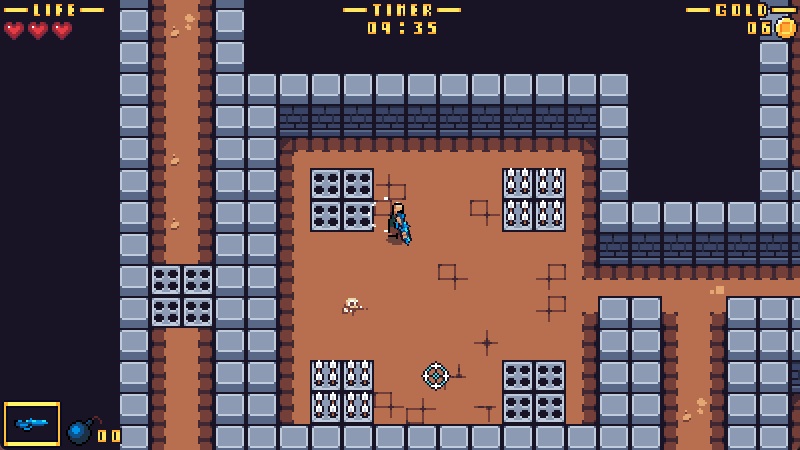aim: (422, 361, 450, 391)
health: (1, 20, 76, 42)
player: (387, 202, 412, 247)
trap_off: (312, 168, 374, 231), (151, 264, 213, 327), (502, 360, 564, 423)
trap_on: (502, 169, 565, 230), (309, 361, 372, 422)
